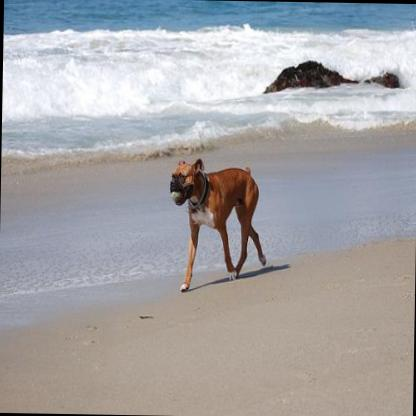boxer: (165, 155, 267, 291)
